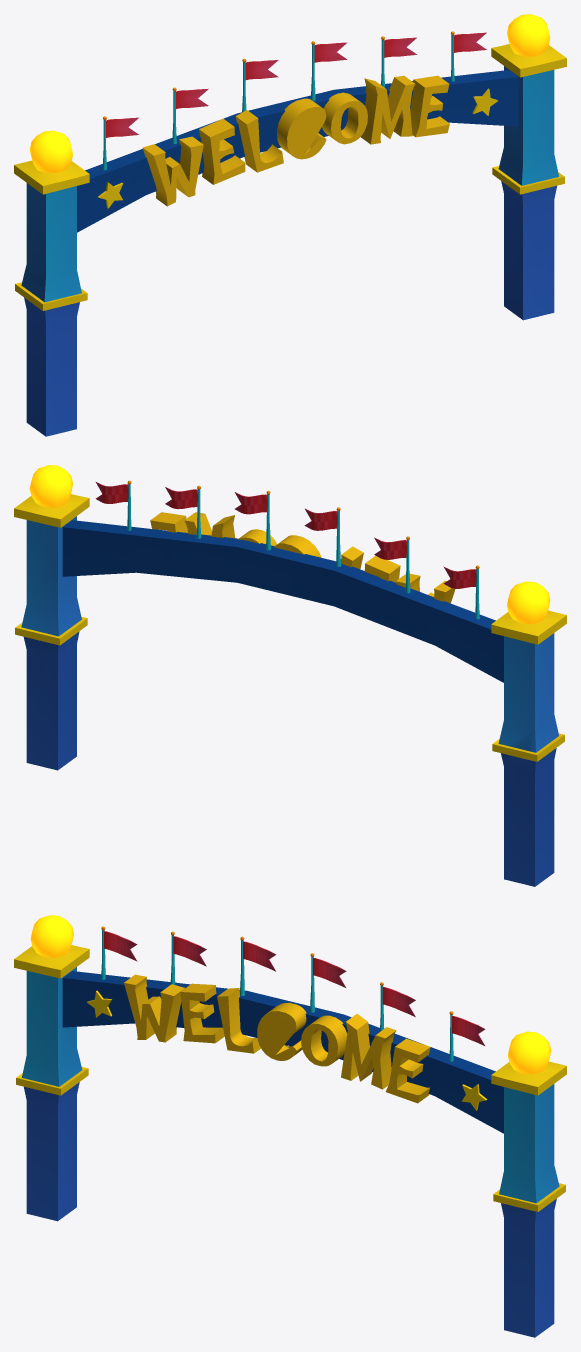
Rendered from entrance.fbx.
The picture shows the model from 3 angles, top to bottom: view 1: azimuth 30°, elevation 25°; view 2: azimuth 150°, elevation 25°; view 3: azimuth 330°, elevation 25°; orthographic projection.
Parts seen in each view (by area): view 1: archway, Weclome, flags; view 2: archway, flags, Weclome; view 3: archway, Weclome, flags.
Part boxes in pixels (box(x1,y1,x2,y2)): archway: box(14, 14, 566, 436); Weclome: box(142, 75, 449, 206); flags: box(102, 31, 486, 170); archway: box(14, 465, 566, 886); flags: box(95, 480, 479, 619); Weclome: box(150, 512, 455, 603); archway: box(14, 915, 566, 1337); Weclome: box(124, 974, 430, 1103); flags: box(101, 926, 485, 1061).
Bounding box in the file's own units: 12.01 × 7.03 × 1.17.
